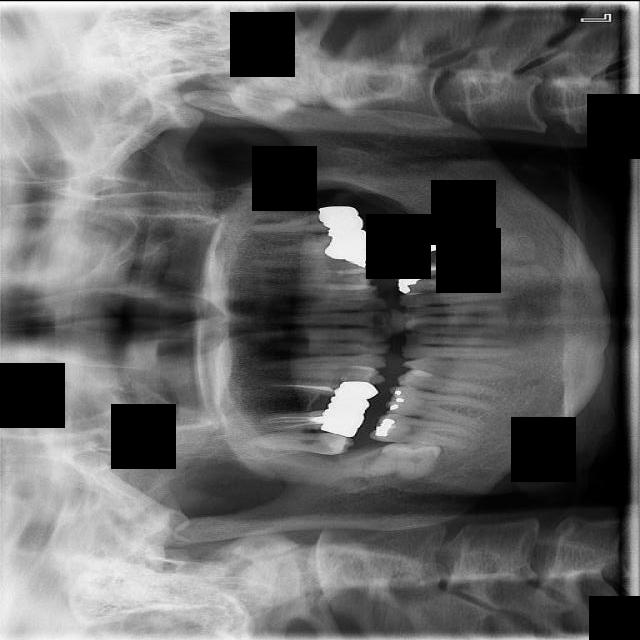3M ESPE Implant: (241, 424, 356, 456)
52: (317, 370, 381, 445), (315, 199, 378, 275), (388, 228, 442, 267), (395, 261, 431, 294), (373, 414, 396, 439), (389, 402, 400, 409), (394, 388, 403, 395), (395, 397, 404, 401)
73: (262, 376, 343, 395), (425, 255, 498, 275), (259, 410, 326, 431)
BioHorizons Implant: (247, 204, 364, 234)
Caries: (262, 402, 367, 437)
Implant: (369, 411, 480, 449)
Keystone Dental Implant: (365, 440, 444, 480)
